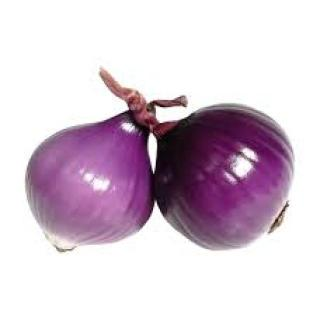Bawang Merah: (152, 102, 298, 254), (19, 99, 159, 257)
